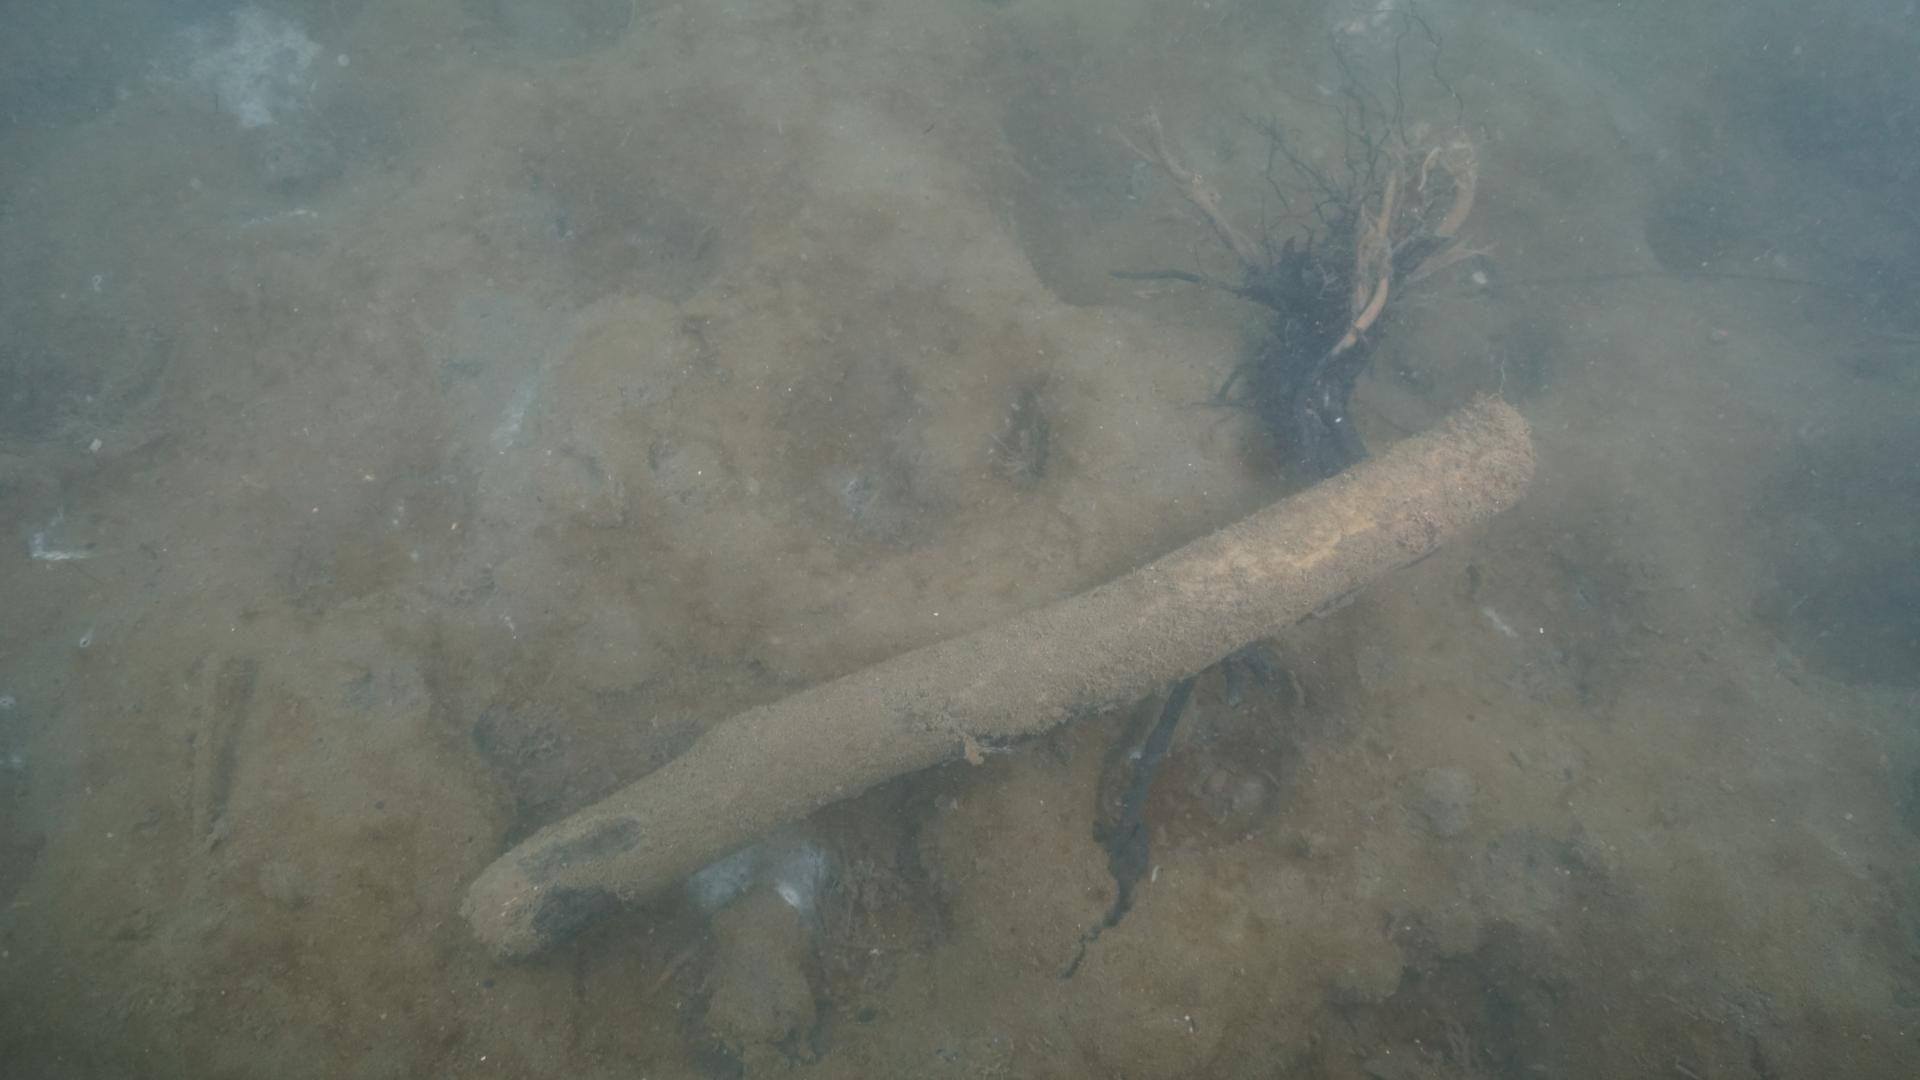wood: (462, 396, 1535, 956)
